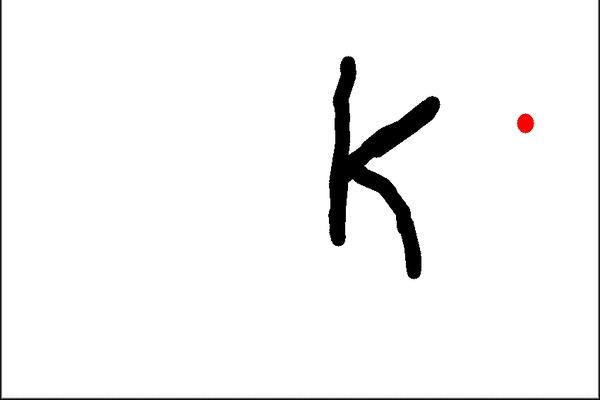K: (315, 51, 443, 288)
